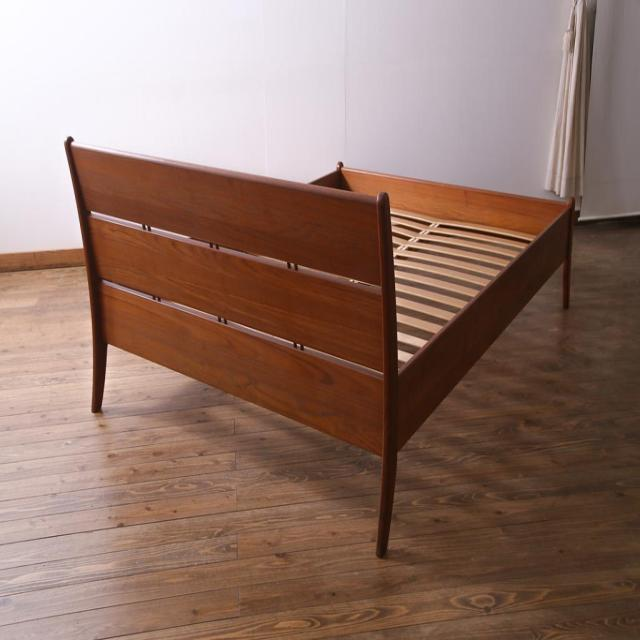bed vintage: (57, 118, 582, 560)
